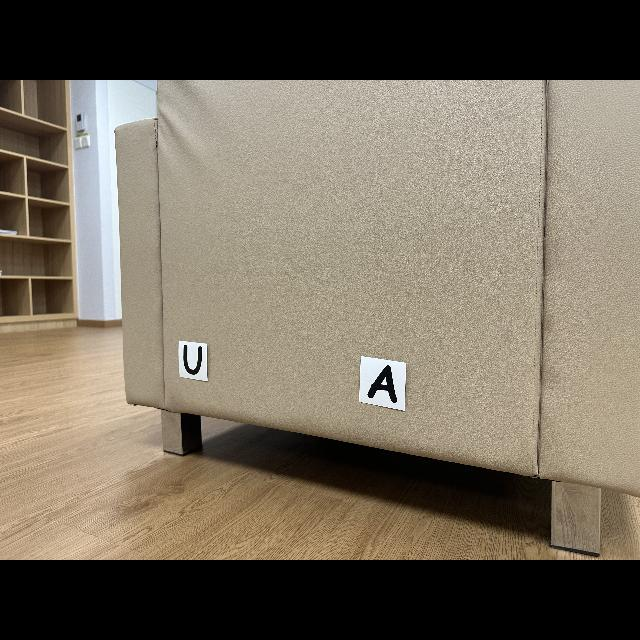A: (368, 365, 398, 402)
U: (182, 344, 202, 375)
